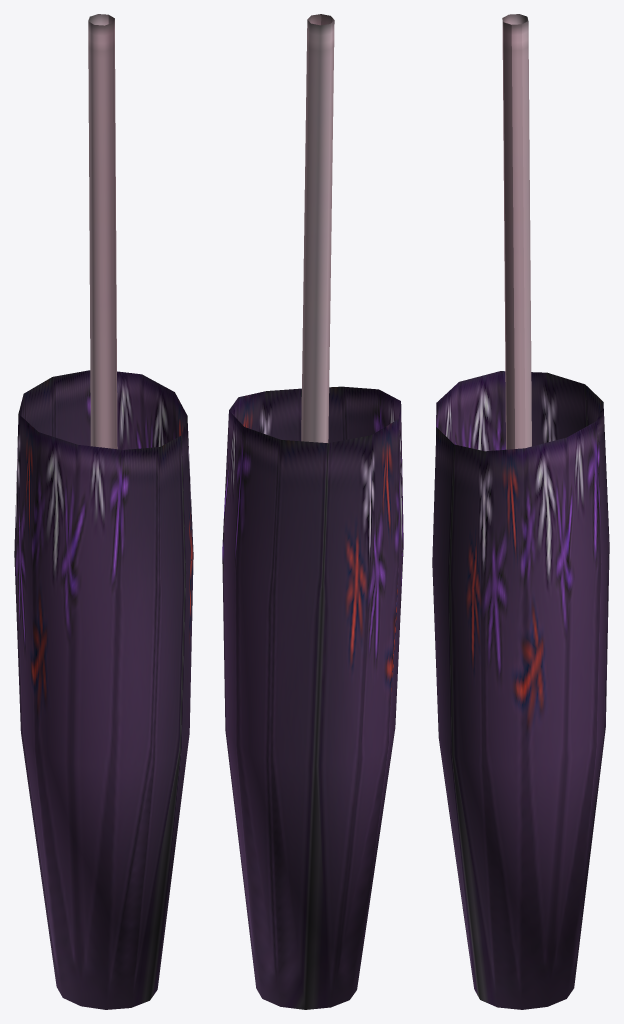
The model's file is h_105_jiegeng_san_skill1.FBX.
3 views of the same model, side by side, from view 1: azimuth 30°, elevation 25°; view 2: azimuth 150°, elevation 25°; view 3: azimuth 270°, elevation 25° (orthographic).
Visible parts, largest first — view 1: h_105_jiegeng_f_wp; view 2: h_105_jiegeng_f_wp; view 3: h_105_jiegeng_f_wp.
Part boxes in pixels (x1,y1,x2,y2): h_105_jiegeng_f_wp: (14,14,193,1009); h_105_jiegeng_f_wp: (222,14,403,1009); h_105_jiegeng_f_wp: (432,14,609,1009).
Size of the model in its own units: 0.2972 by 1.76 by 0.2935.
